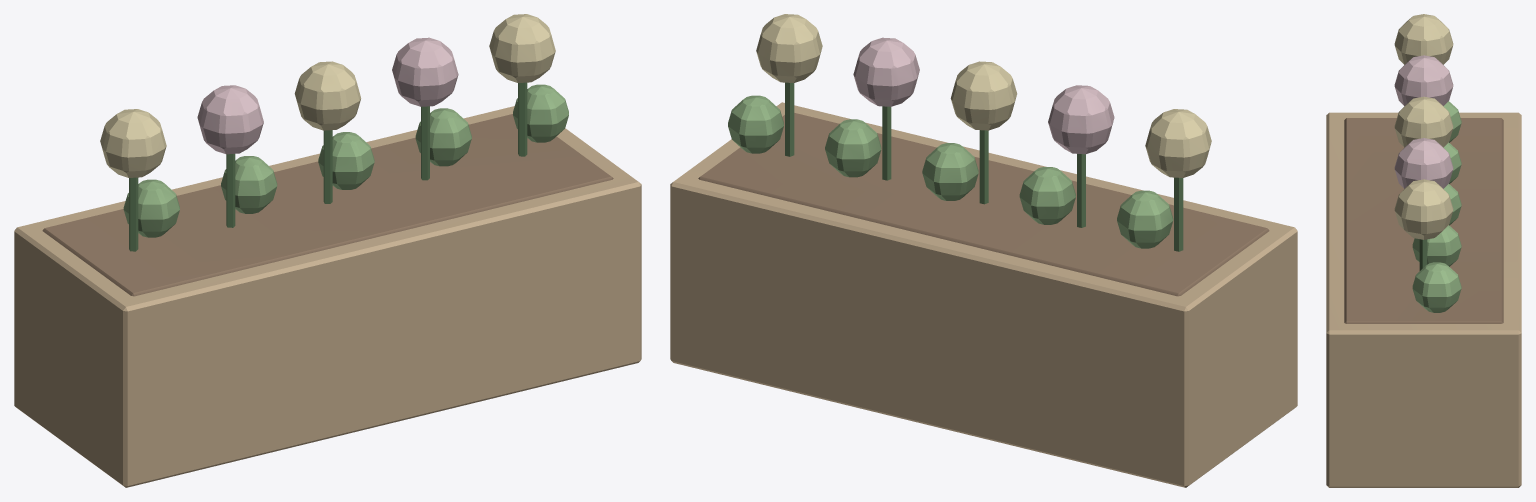
File: furn_planter_box__oak.glb
3 views of the same model, side by side, from view 1: azimuth 30°, elevation 25°; view 2: azimuth 150°, elevation 25°; view 3: azimuth 270°, elevation 25° (orthographic). The views are drawn at different scales.
Size of the model in its own units: 1.2 by 0.71 by 0.45.
